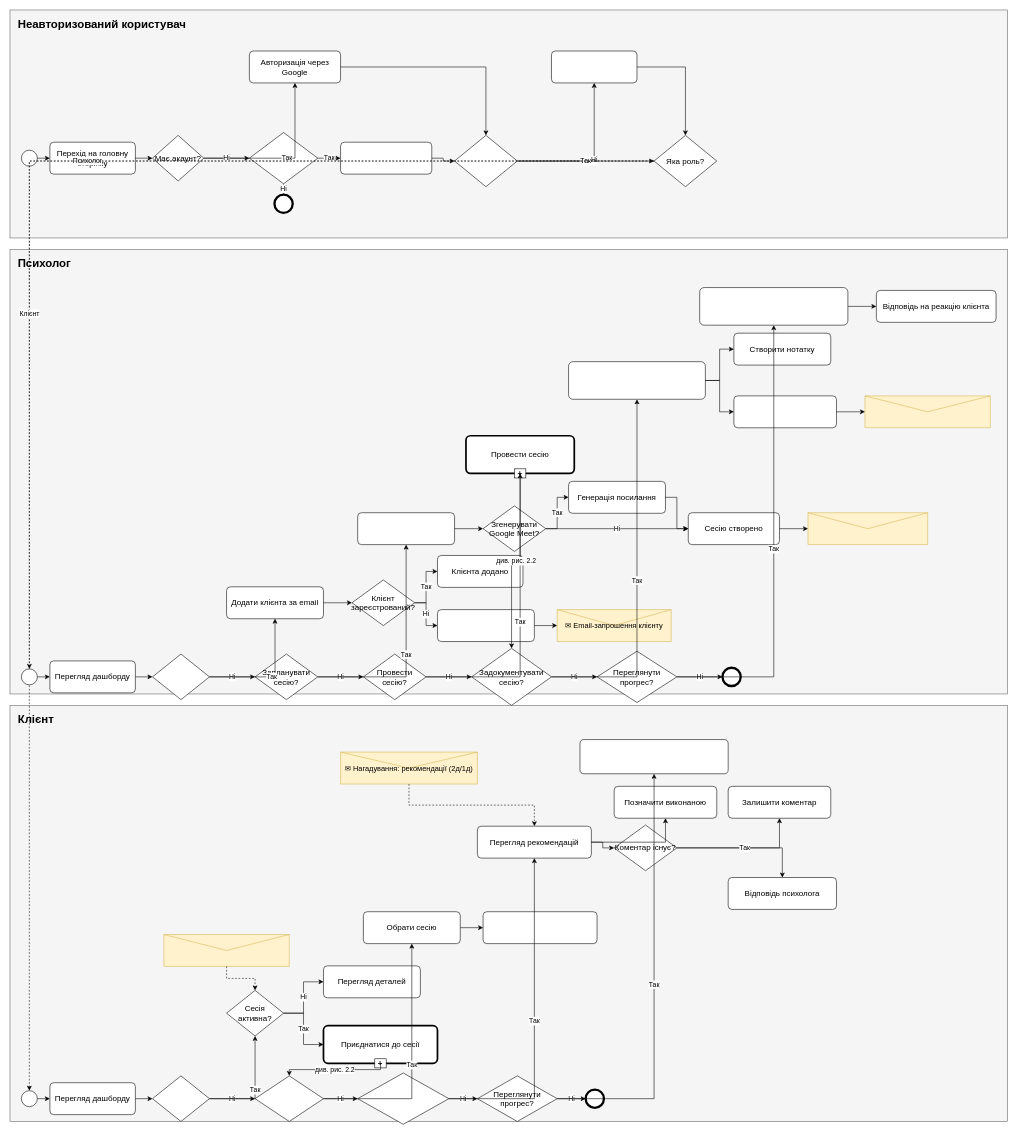
This 1017x1134 diagram has some shape labels left out. The shapes that lost their labels are listed below. From the top down, each one's centre as x and y in pixels, then its label:
At pixel 594 66: "Вибір ролі".
At pixel 283 158: "Бажає зареєструватись?".
At pixel 386 158: "Реєстрація через Google".
At pixel 485 161: "Роль обрано?".
At pixel 773 306: "Перегляд прогресу, вражень клієнта".
At pixel 636 380: "Обрати сесію для документування".
At pixel 784 411: "Створити рекомендацію".
At pixel 927 411: "✉ Сповіщення про рекомендацію".
At pixel 406 528: "Заповнити дані сесії".
At pixel 867 528: "✉ Заплановано нагадування".
At pixel 485 625: "Надіслати запрошення".
At pixel 180 677: "Додати клієнта?".
At pixel 653 756: "Перегляд власного прогресу".
At pixel 540 927: "Залишити враження".
At pixel 226 950: "✉ Нагадування: сесія (24г/1г)".
At pixel 180 1098: "Переглянути сесії?".
At pixel 289 1098: "Залишити враження?".
At pixel 403 1098: "Переглянути рекомендації?".
